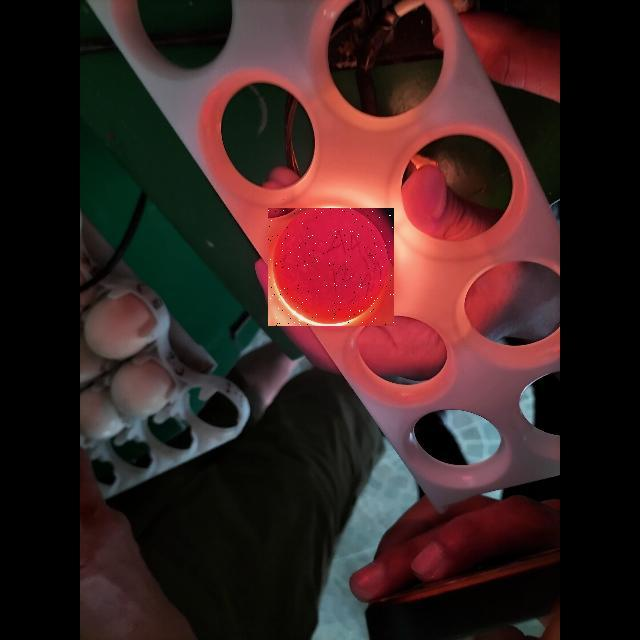Infertile: (268, 208, 394, 326)
